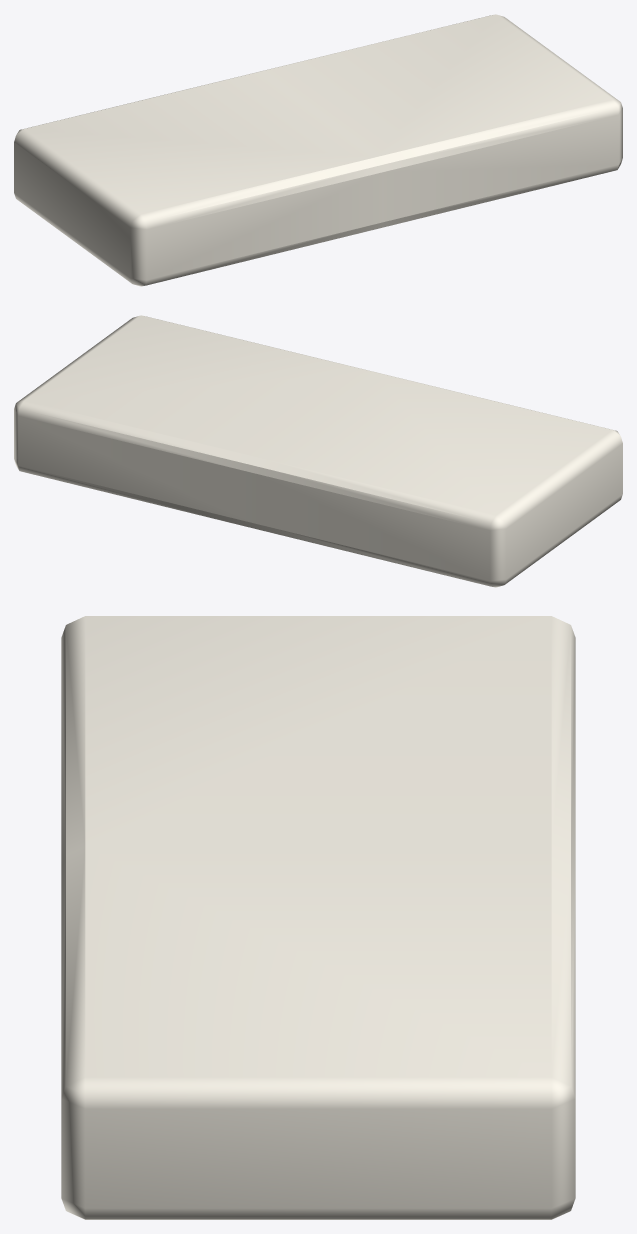
3 views of the same model, one above another, from view 1: azimuth 30°, elevation 25°; view 2: azimuth 150°, elevation 25°; view 3: azimuth 270°, elevation 25° (orthographic). The views are drawn at different scales.
Visible parts, largest first — view 1: domino:domino:domino:domino:polySurface21; view 2: domino:domino:domino:domino:polySurface21; view 3: domino:domino:domino:domino:polySurface21.
Part boxes in pixels (left/top/right/bottom): domino:domino:domino:domino:polySurface21: left=14, top=14, right=622, bottom=286; domino:domino:domino:domino:polySurface21: left=14, top=315, right=622, bottom=587; domino:domino:domino:domino:polySurface21: left=61, top=616, right=575, bottom=1219.
Size of the model in its own units: 3.28 by 0.4593 by 1.48.
Materials: 1 (1 with a texture image).
